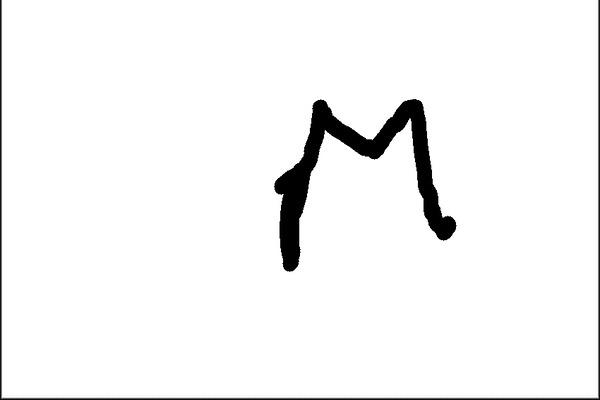M: (263, 93, 459, 272)
